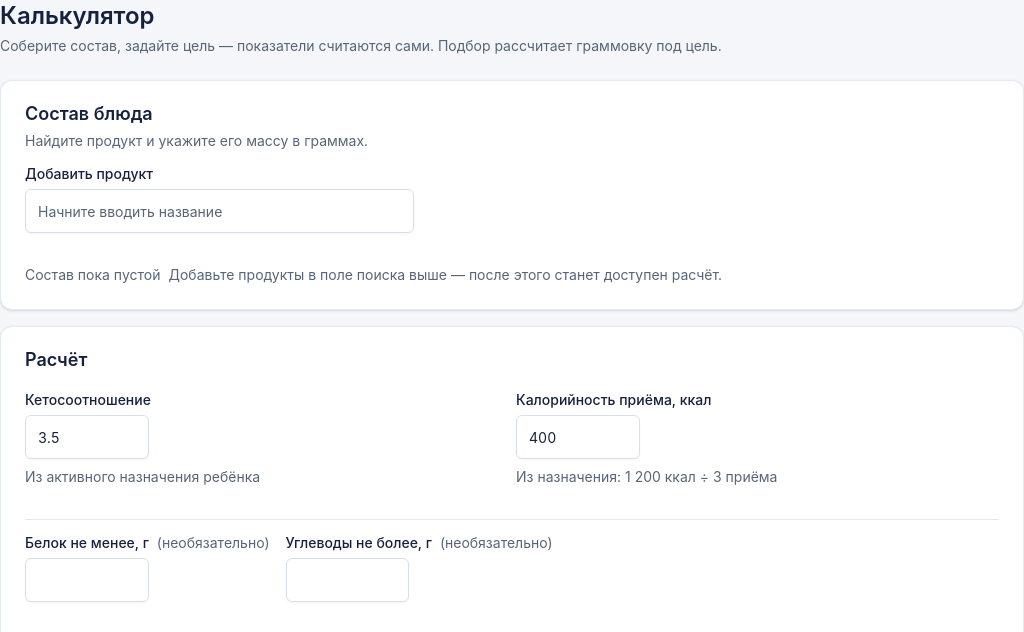
Test: калькулятор › отказ проверки по данным повторить не предлагает
The image size is (1024, 632).
Type "масло" into the dropdown labelled "Добавить продукт" at (219, 211), box [25, 189, 414, 233]
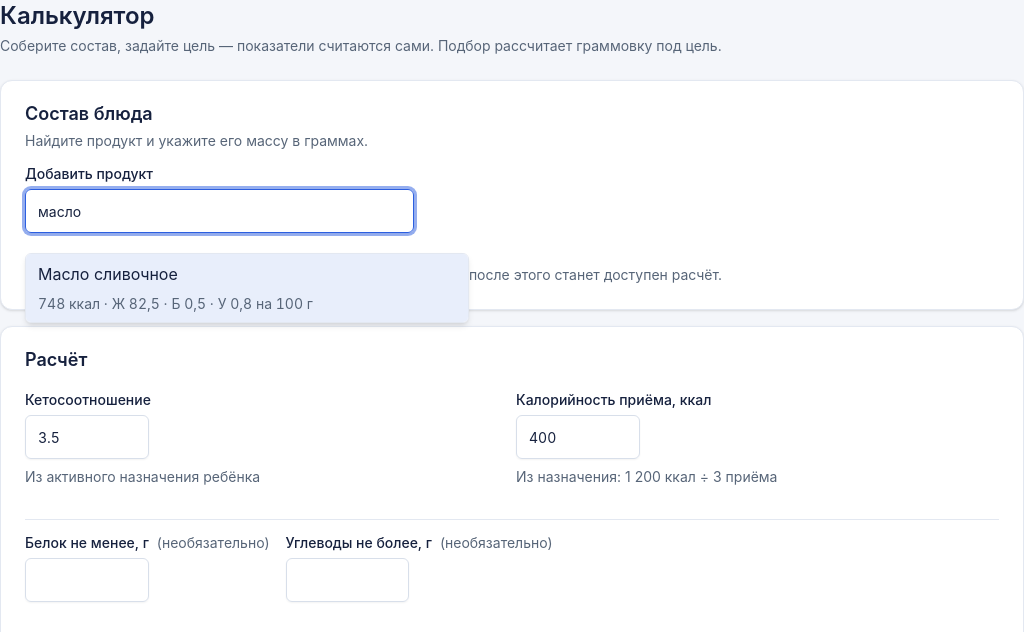
Click the option "Масло сливочное 748 ккал · Ж 82,5 · Б 0,5 · У 0,8 на 100 г" at (108, 274), box [26, 254, 468, 322]
(page scrolled)
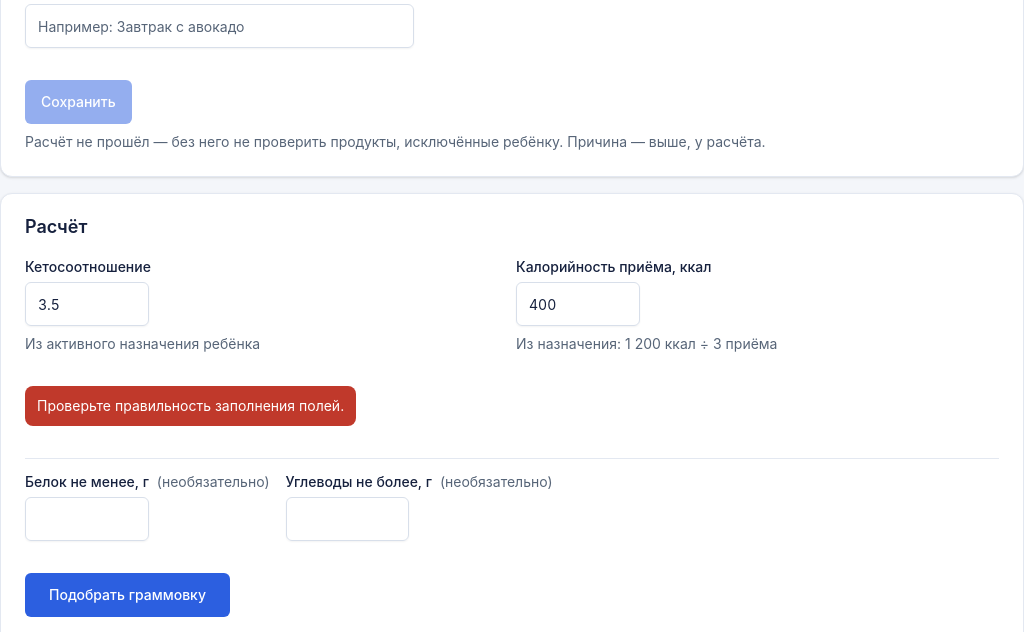
Check: the text "Проверьте правильность заполнения полей." is shown, box [25, 386, 356, 426]
